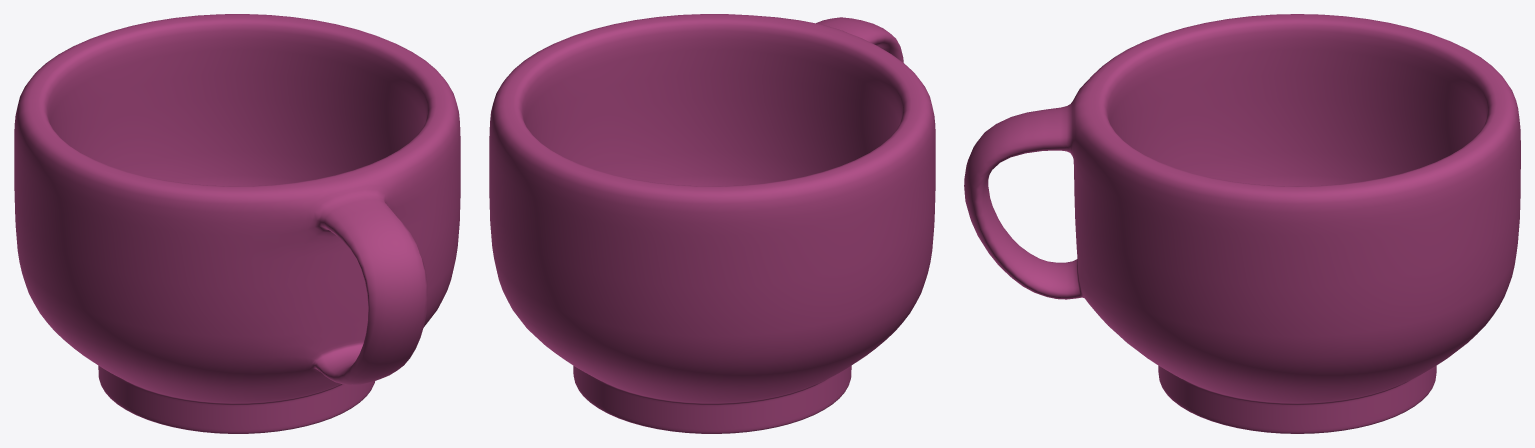
The model's file is cup_V1.fbx.
3 renders of one model, left to right at view 1: azimuth 30°, elevation 25°; view 2: azimuth 150°, elevation 25°; view 3: azimuth 270°, elevation 25°, orthographic.
Visible parts, largest first — view 1: cup_GEO_001; view 2: cup_GEO_001; view 3: cup_GEO_001.
Part boxes in pixels (x1=…): cup_GEO_001: x1=14, y1=14, x2=460, y2=433; cup_GEO_001: x1=489, y1=14, x2=935, y2=433; cup_GEO_001: x1=964, y1=14, x2=1520, y2=433.
Bounding box in the file's own units: 8.21 × 5.54 × 10.24.
